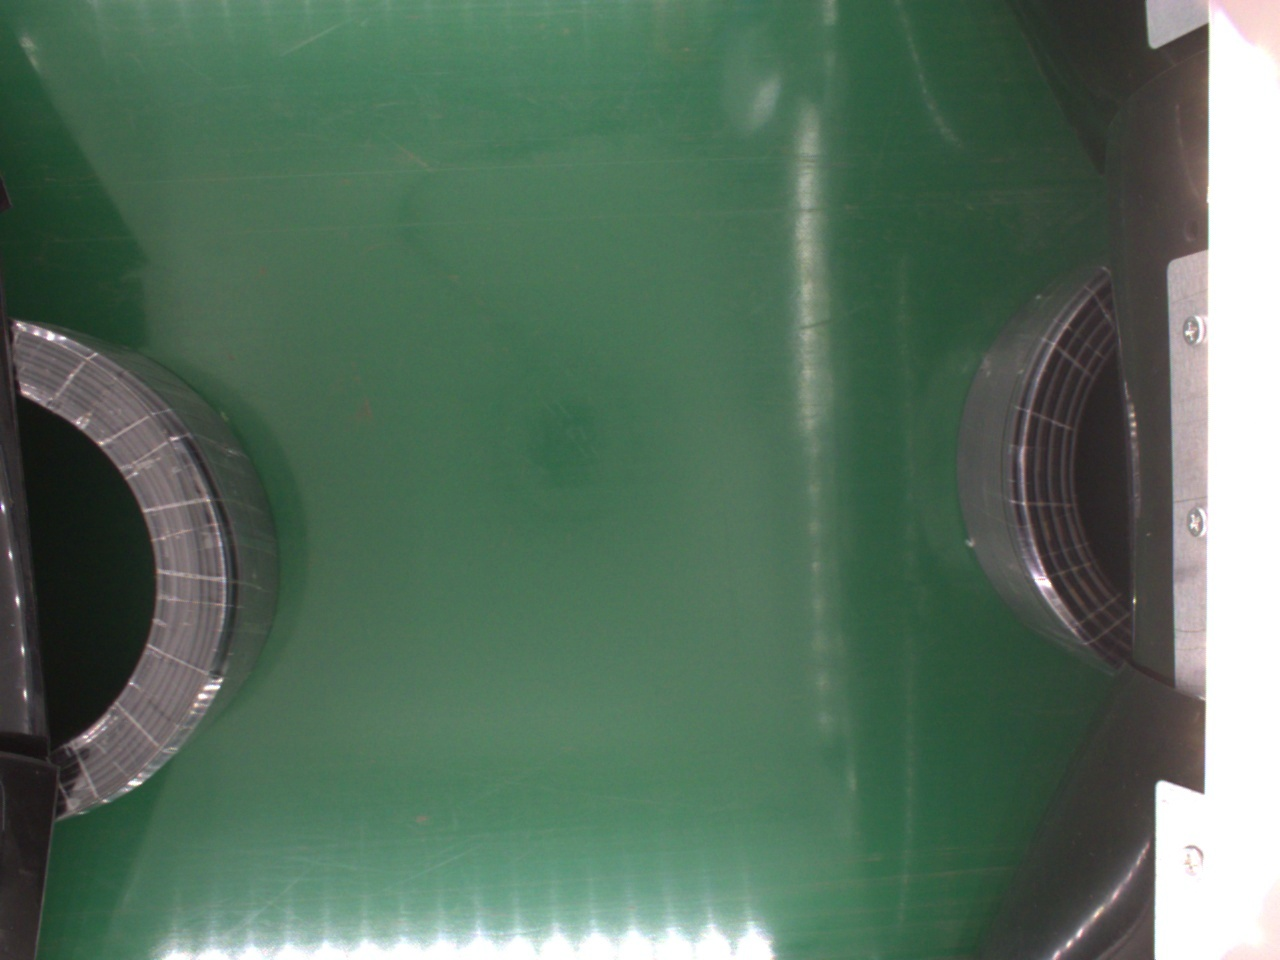black: (10, 318, 274, 830), (950, 262, 1136, 673)
